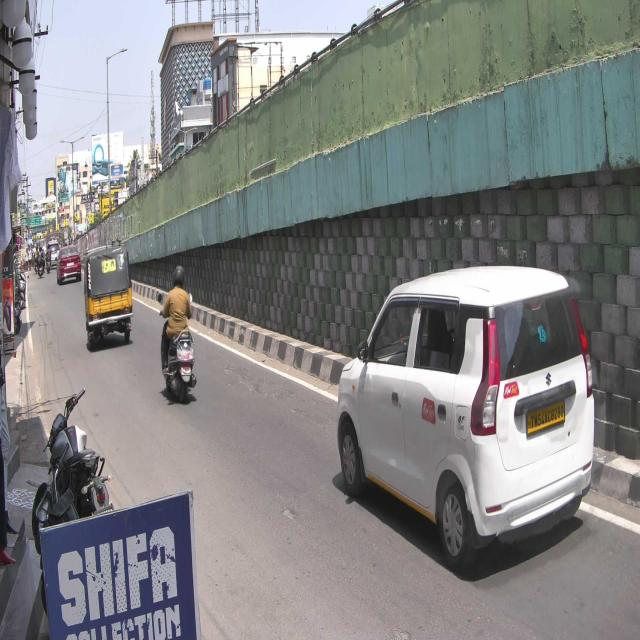single_rider: (157, 264, 198, 405)
